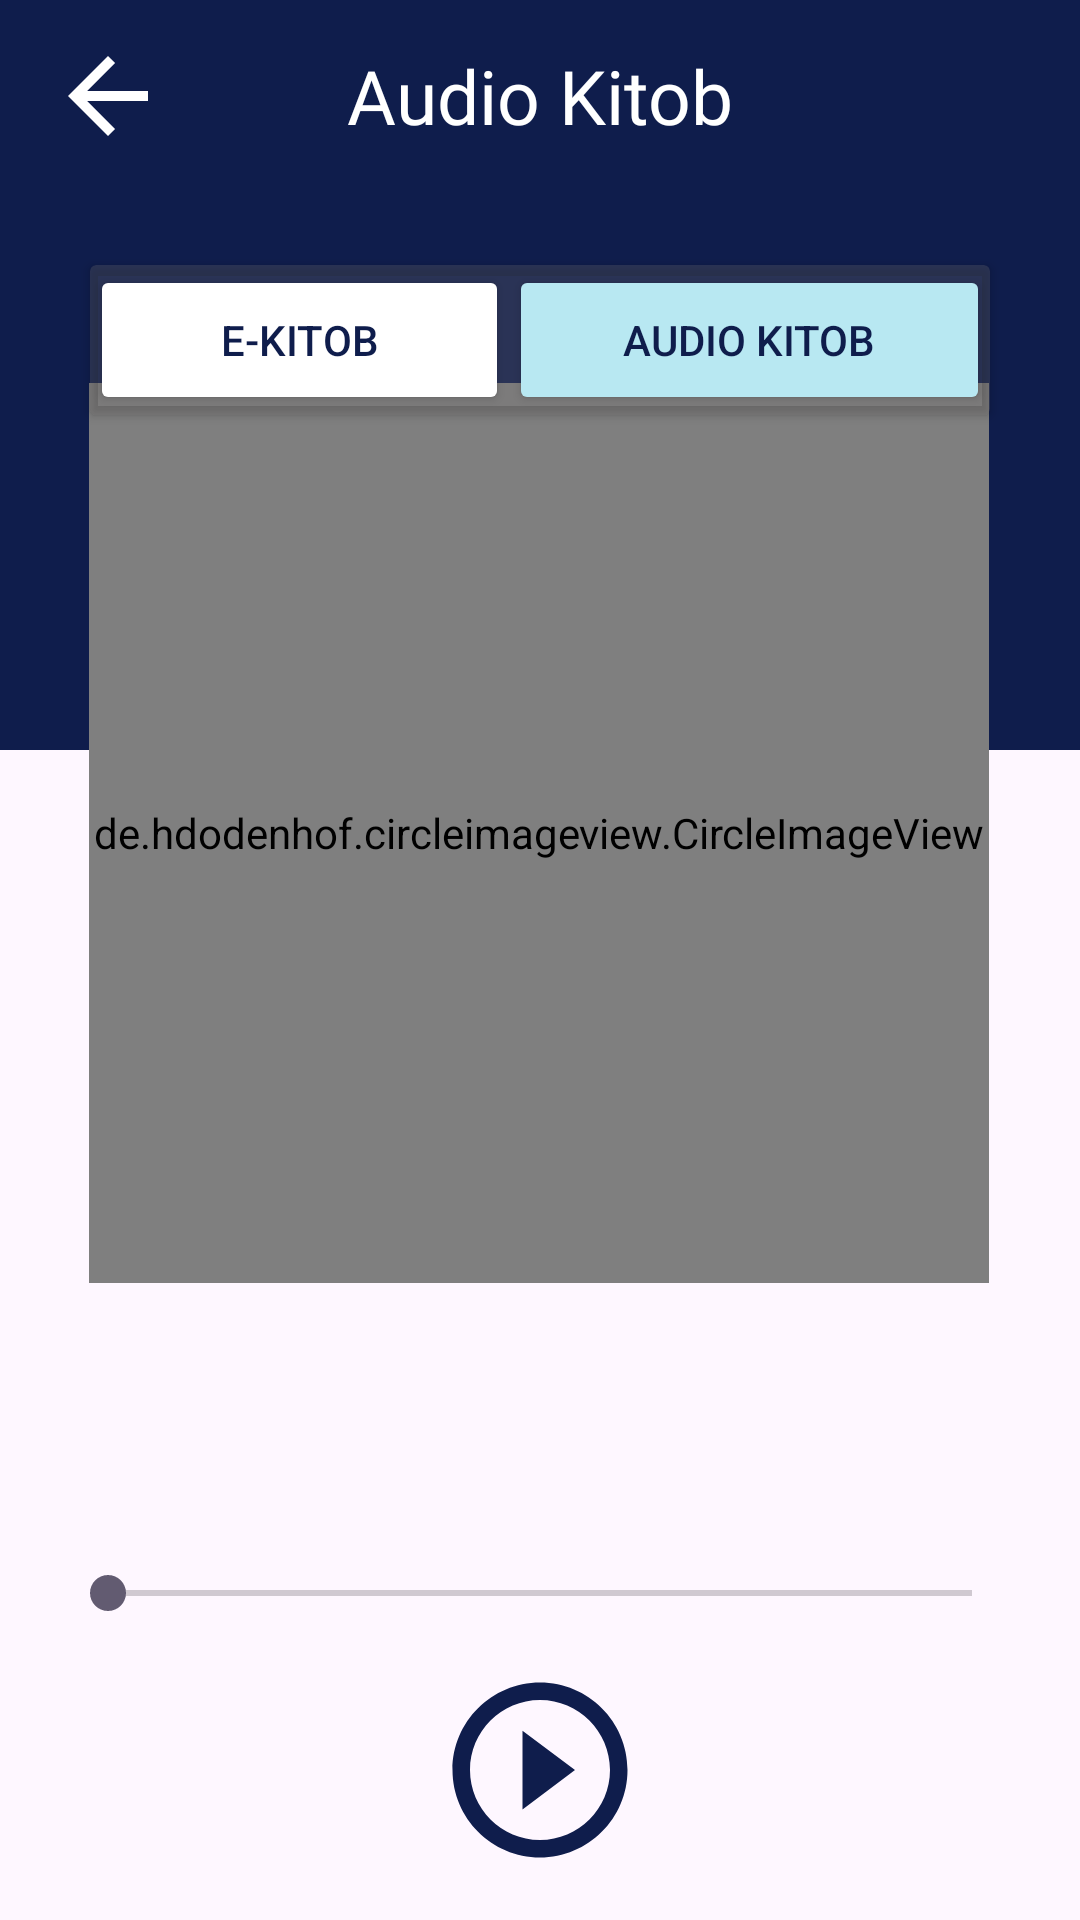

Named icons in this screenshot (1080 x 1920) and their bounding boxes, BBox(x1, y1, x2, y2):
back: BBox(68, 56, 148, 136)
play: BBox(452, 1682, 628, 1858)
